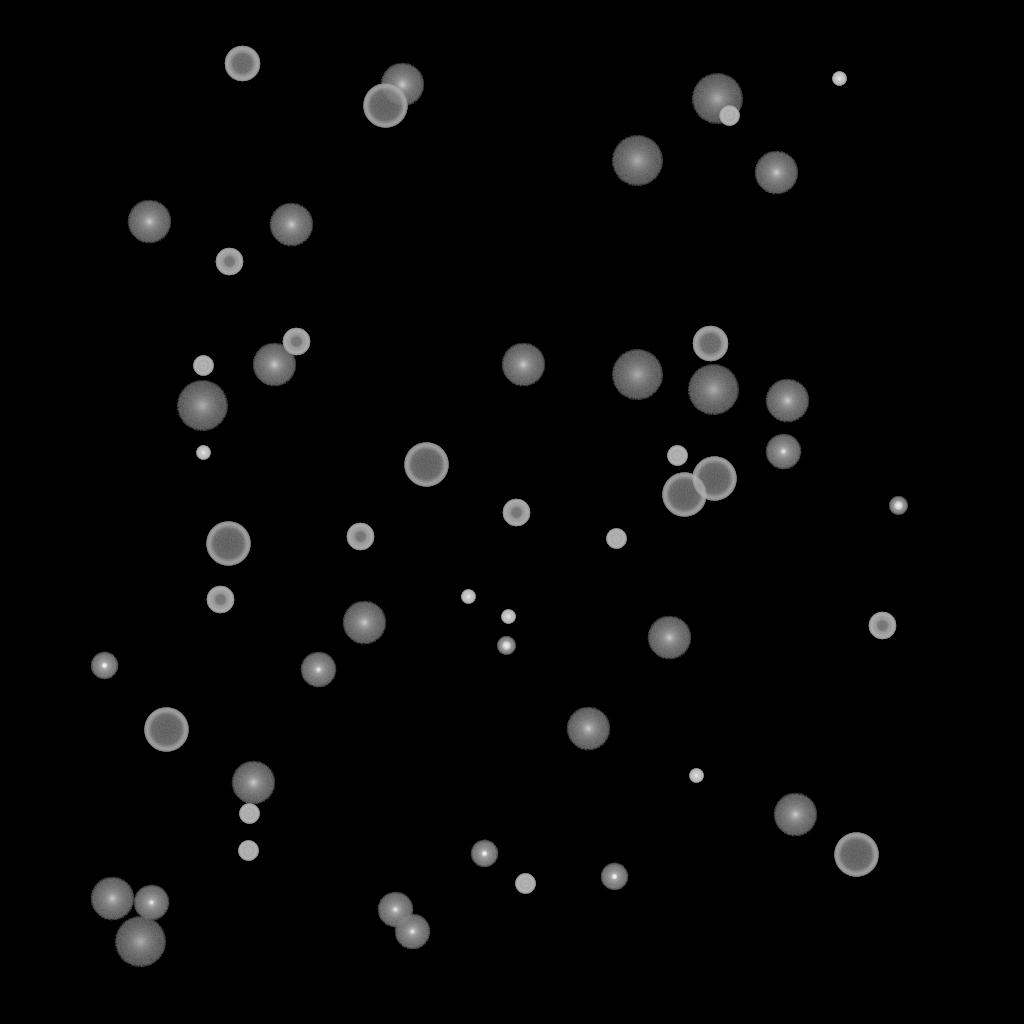depth:-10: (470, 840, 498, 868), (600, 863, 628, 891), (90, 652, 118, 680)
depth:-20: (889, 497, 907, 515), (497, 637, 515, 655)
depth:-30: (832, 72, 846, 86), (196, 446, 210, 460), (689, 769, 703, 783), (501, 610, 515, 624), (461, 590, 475, 604)
depth:-40: (667, 446, 687, 466), (606, 529, 626, 549), (719, 106, 739, 126), (239, 804, 259, 824), (238, 841, 258, 861), (193, 356, 213, 376), (515, 874, 535, 894)
depth:-50: (502, 499, 530, 527), (282, 328, 310, 356), (346, 523, 374, 551), (868, 612, 896, 640), (215, 248, 243, 276), (206, 586, 234, 614)
depth:-60: (692, 326, 728, 362), (224, 46, 260, 82)
depth:-70: (144, 708, 188, 752), (363, 84, 407, 128), (404, 443, 448, 487), (662, 473, 706, 517), (206, 522, 250, 566), (834, 833, 878, 877), (692, 457, 736, 501)
depth:0: (133, 885, 169, 921), (377, 892, 413, 928), (394, 914, 430, 950), (765, 434, 801, 470), (300, 652, 336, 688)
depth:10: (231, 761, 275, 805), (380, 63, 424, 107), (647, 616, 691, 660), (754, 151, 798, 195), (90, 877, 134, 921), (501, 343, 545, 387), (342, 601, 386, 645), (252, 343, 296, 387), (127, 200, 171, 244), (765, 379, 809, 423), (773, 793, 817, 837), (269, 203, 313, 247), (566, 707, 610, 751)
depth:20: (176, 381, 228, 431), (691, 74, 743, 124), (687, 365, 739, 415), (114, 917, 166, 967), (611, 136, 663, 186), (611, 350, 663, 400)
